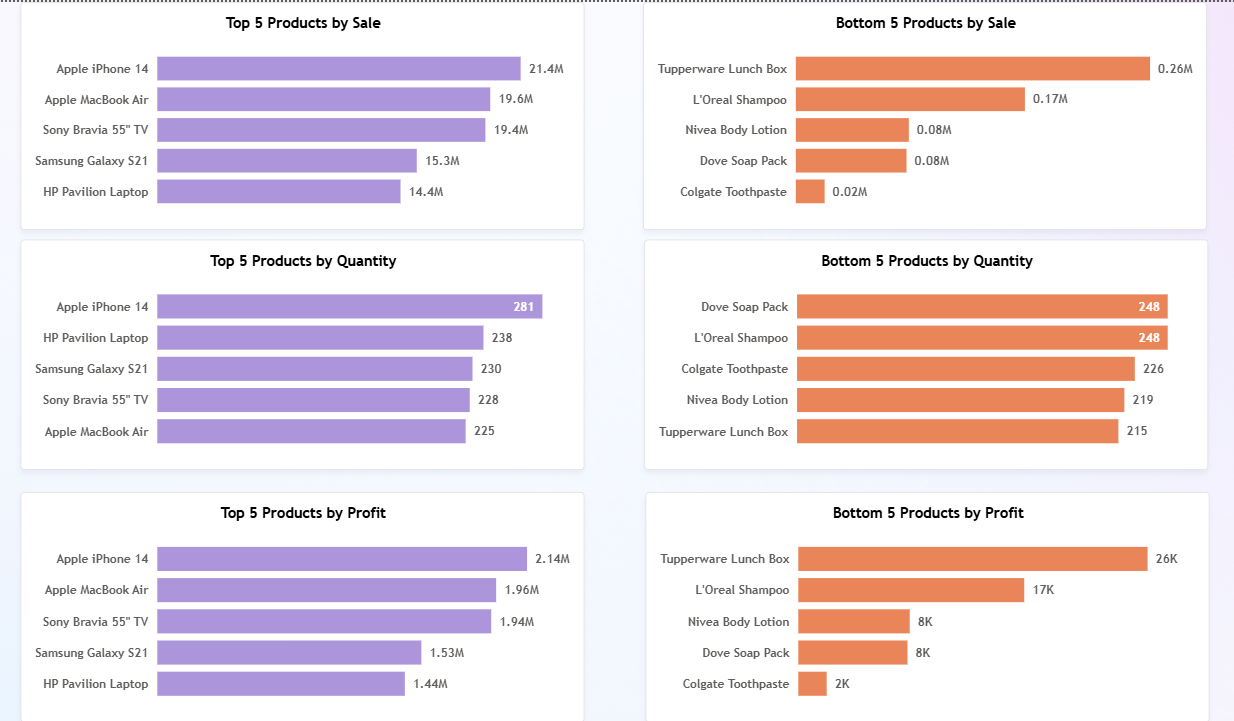

The page's visual inventory and layout, read from the dashboard file:
{"tool":"powerbi","page":{"name":"Top/Bottom 5 Analysis","canvas":[1280,720],"ordinal":1},"visuals":[{"type":"barChart","title":"Top 5 Products by Sale","fields":{"Y":["Sum(Fact Table.Net Sale)"],"Category":["Dim Product.Product Name"]},"box":[52.1,0,564,227.8],"z":0},{"type":"barChart","title":"Bottom 5 Products by Sale","fields":{"Y":["Sum(Fact Table.Net Sale)"],"Category":["Dim Product.Product Name"]},"box":[675.1,0,564,227.8],"z":1},{"type":"barChart","title":"Top 5 Products by Quantity","fields":{"Category":["Dim Product.Product Name"],"Y":["Sum(Fact Table.Units Sold)"]},"box":[52.1,237.4,564,230.5],"z":2},{"type":"barChart","title":"Bottom 5 Products by Quantity","fields":{"Y":["Sum(Fact Table.Units Sold)"],"Category":["Dim Product.Product Name"]},"box":[676.5,237.4,564,230.5],"z":3},{"type":"barChart","title":"Top 5 Products by Profit","fields":{"Y":["Sum(Fact Table.Profit)"],"Category":["Dim Product.Product Name"]},"box":[52.1,489.9,564,230.5],"z":4},{"type":"barChart","title":"Bottom 5 Products by Profit","fields":{"Y":["Sum(Fact Table.Profit)"],"Category":["Dim Product.Product Name"]},"box":[677.9,489.9,564,230.5],"z":5}]}

Visuals, with their boxes on the page's 1280x720 design canvas (x1, y1, x2, y2). These are canvas units, not pixel positions in the 1234x721 screenshot, which may show the page scaled, cropped or inside an application window:
"Top 5 Products by Sale" barChart: l=52, t=0, r=616, b=228
"Bottom 5 Products by Sale" barChart: l=675, t=0, r=1239, b=228
"Top 5 Products by Quantity" barChart: l=52, t=237, r=616, b=468
"Bottom 5 Products by Quantity" barChart: l=676, t=237, r=1240, b=468
"Top 5 Products by Profit" barChart: l=52, t=490, r=616, b=720
"Bottom 5 Products by Profit" barChart: l=678, t=490, r=1242, b=720
